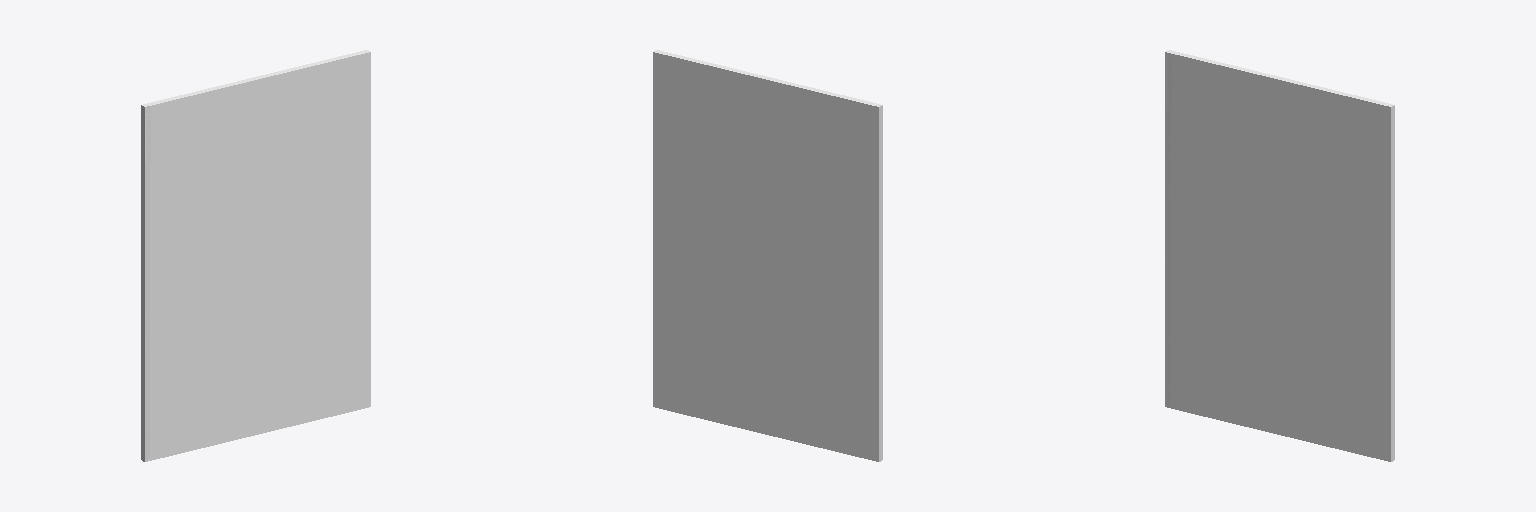
The picture shows the model from 3 angles: view 1: azimuth 30°, elevation 25°; view 2: azimuth 150°, elevation 25°; view 3: azimuth 330°, elevation 25°; orthographic projection.
Parts seen in each view (by area): view 1: 123; view 2: 123; view 3: 123.
Boxes of the visible parts, box(x1,y1,x2,y2) form: 123: box(141, 50, 370, 461); 123: box(653, 50, 882, 461); 123: box(1165, 50, 1394, 461).
Size of the model in its own units: 2 by 3 by 0.05.
Materials: 1 (1 with a texture image).